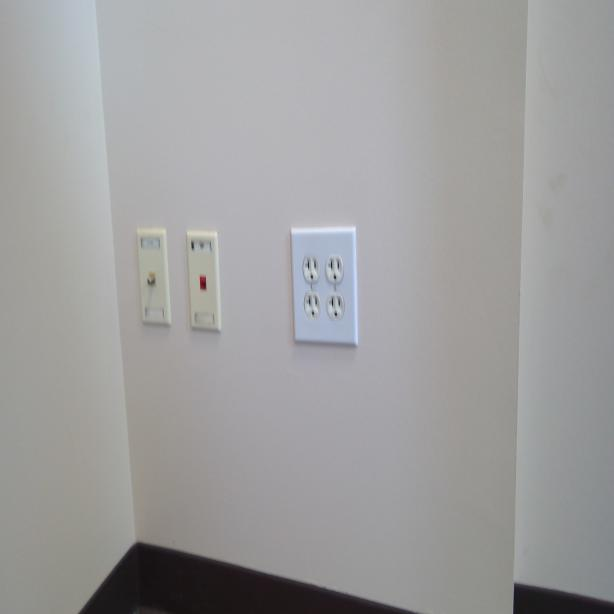typeb: (302, 288, 322, 320), (326, 254, 344, 285), (302, 255, 320, 284), (327, 292, 344, 318)
